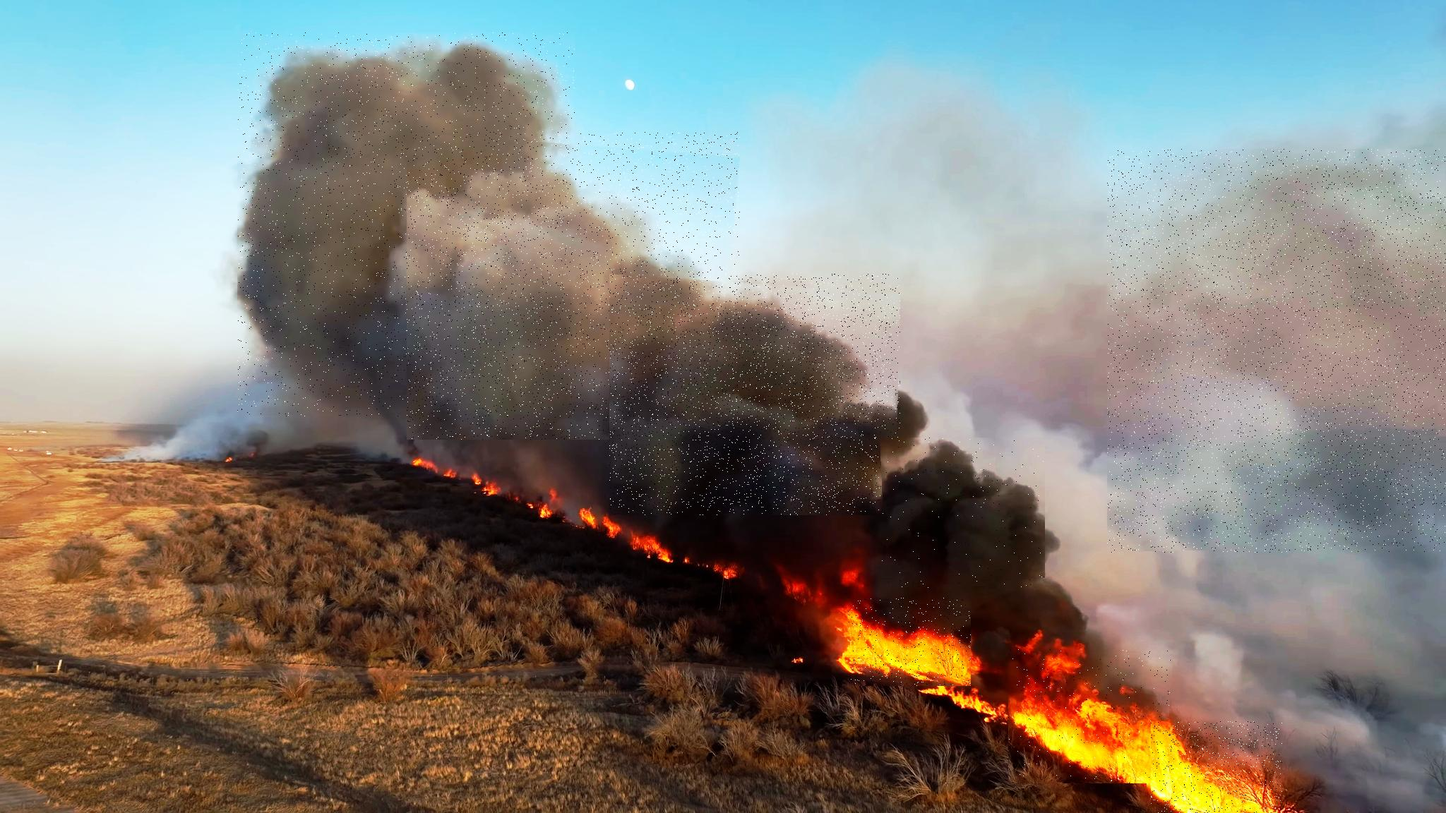fire: (1008, 649, 1174, 783), (1151, 721, 1282, 813), (848, 597, 971, 686)
smoke: (1107, 149, 1446, 553), (237, 33, 575, 416), (407, 132, 740, 440), (609, 274, 900, 515), (880, 438, 1045, 589)
